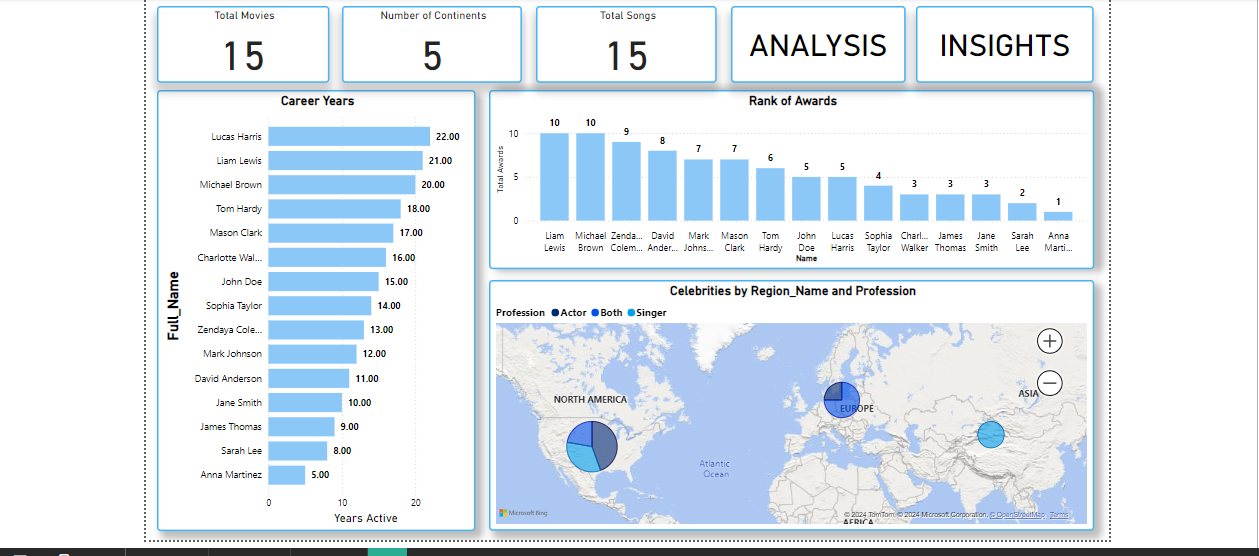

Layout of this report page (visuals, bound fields, positions):
{"tool":"powerbi","page":{"name":"Trends","canvas":[1280,720],"ordinal":2},"visuals":[{"type":"clusteredColumnChart","title":"Rank of Awards","fields":{"Category":["People.Full_Name"],"Y":["success.Total_Awards"]},"box":[455.6,122.5,803.7,237.5],"z":2000},{"type":"clusteredBarChart","title":" Career Years","fields":{"Category":["Celebrities.Full_Name"],"Y":["Celebrities.Years_Active"]},"box":[14.9,122.5,422.7,585.6],"z":3000},{"type":"map","title":"Celebrities by Region_Name and Profession","fields":{"Category":["peop_region.Region_Name"],"Size":["People.Person_ID"],"Series":["People.Profession"]},"box":[455.6,374.9,803.7,333.1],"z":4000},{"type":"card","title":"Total Movies","fields":{"Values":["songs.Song_ID"]},"box":[14.9,10.5,228.5,101.6],"z":5000},{"type":"card","title":"Number of Continents","fields":{"Values":["region.Region_ID"]},"box":[259.9,10.5,239,101.6],"z":6000},{"type":"card","title":"Total Songs","fields":{"Values":["movies.Movie_ID"]},"box":[518.3,10.5,240.5,101.6],"z":7000},{"type":"actionButton","box":[776.8,10.5,231.5,101.6],"z":8000},{"type":"actionButton","box":[1023.2,10.5,236,101.6],"z":9000}]}

Visuals, with their boxes on the page's 1280x720 design canvas (x1, y1, x2, y2). These are canvas units, not pixel positions in the 1259x556 screenshot, which may show the page scaled, cropped or inside an application window:
"Rank of Awards" clusteredColumnChart: pyautogui.locateOnScreen(456, 122, 1259, 360)
" Career Years" clusteredBarChart: pyautogui.locateOnScreen(15, 122, 438, 708)
"Celebrities by Region_Name and Profession" map: pyautogui.locateOnScreen(456, 375, 1259, 708)
"Total Movies" card: pyautogui.locateOnScreen(15, 10, 243, 112)
"Number of Continents" card: pyautogui.locateOnScreen(260, 10, 499, 112)
"Total Songs" card: pyautogui.locateOnScreen(518, 10, 759, 112)
actionButton: pyautogui.locateOnScreen(777, 10, 1008, 112)
actionButton: pyautogui.locateOnScreen(1023, 10, 1259, 112)
